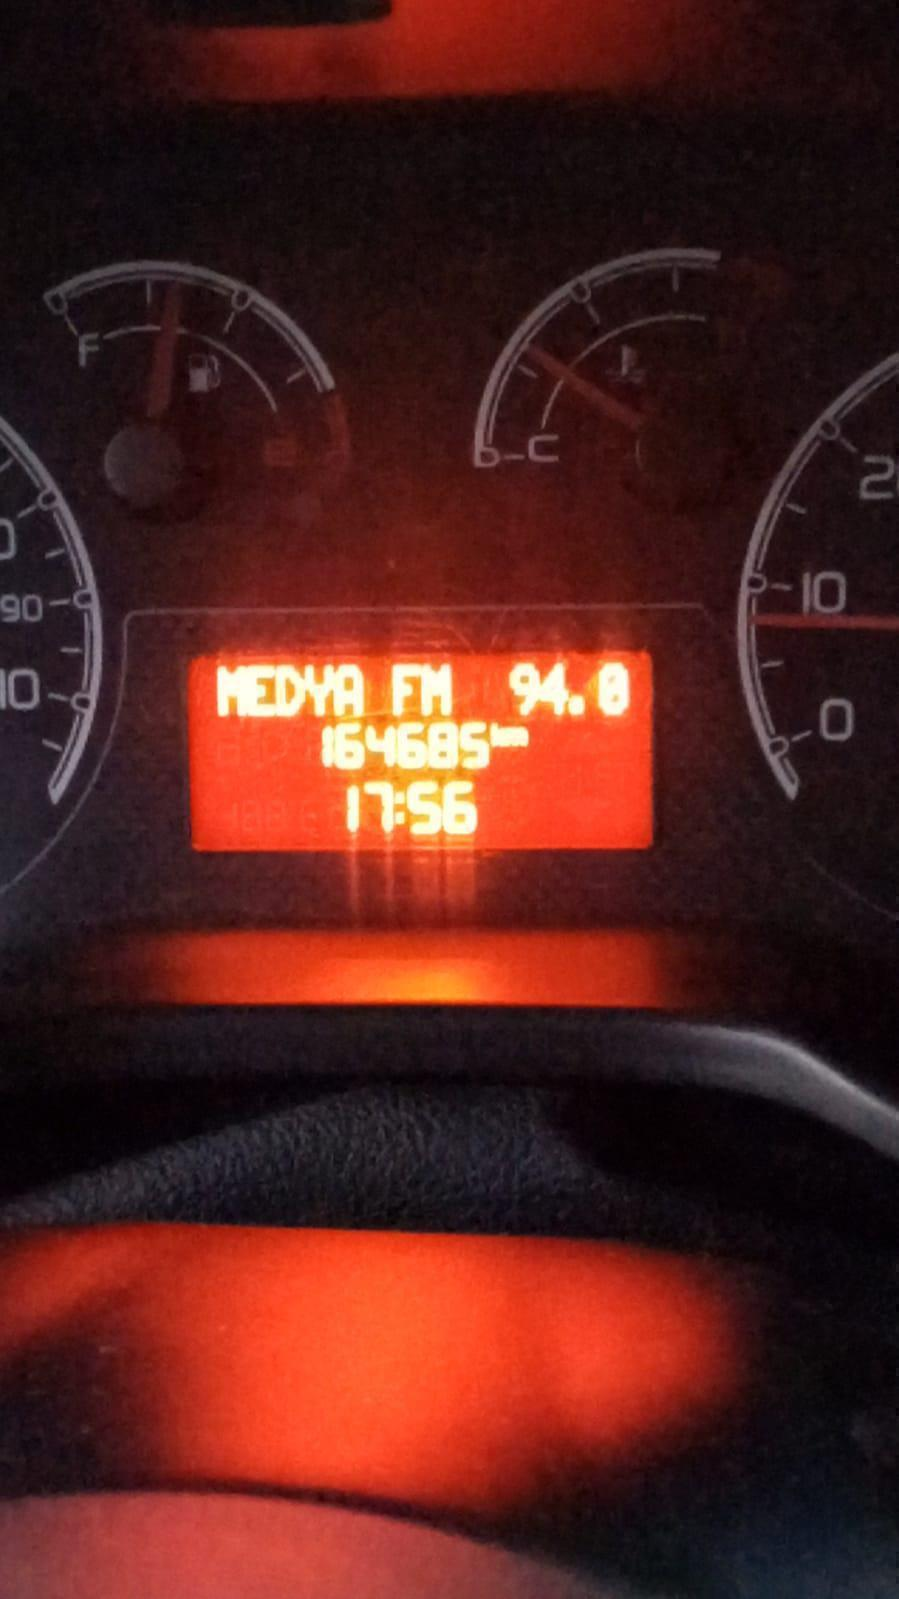,: (568, 692, 587, 716)
0: (597, 658, 631, 722)
1: (342, 782, 364, 834), (317, 722, 333, 771)
4: (366, 719, 395, 765), (542, 662, 568, 716)
5: (407, 778, 442, 837), (460, 717, 491, 770)
6: (443, 778, 477, 836), (333, 722, 363, 771), (397, 719, 425, 769)
7: (362, 779, 393, 835)
8: (427, 719, 461, 765)
9: (507, 660, 542, 715)
X: (215, 662, 248, 723), (276, 662, 306, 722), (422, 661, 453, 718), (334, 666, 366, 720), (248, 661, 276, 723), (392, 660, 420, 717), (305, 663, 333, 718), (506, 723, 527, 750), (393, 789, 406, 831), (492, 719, 507, 749)
odometer: (183, 646, 664, 854)
